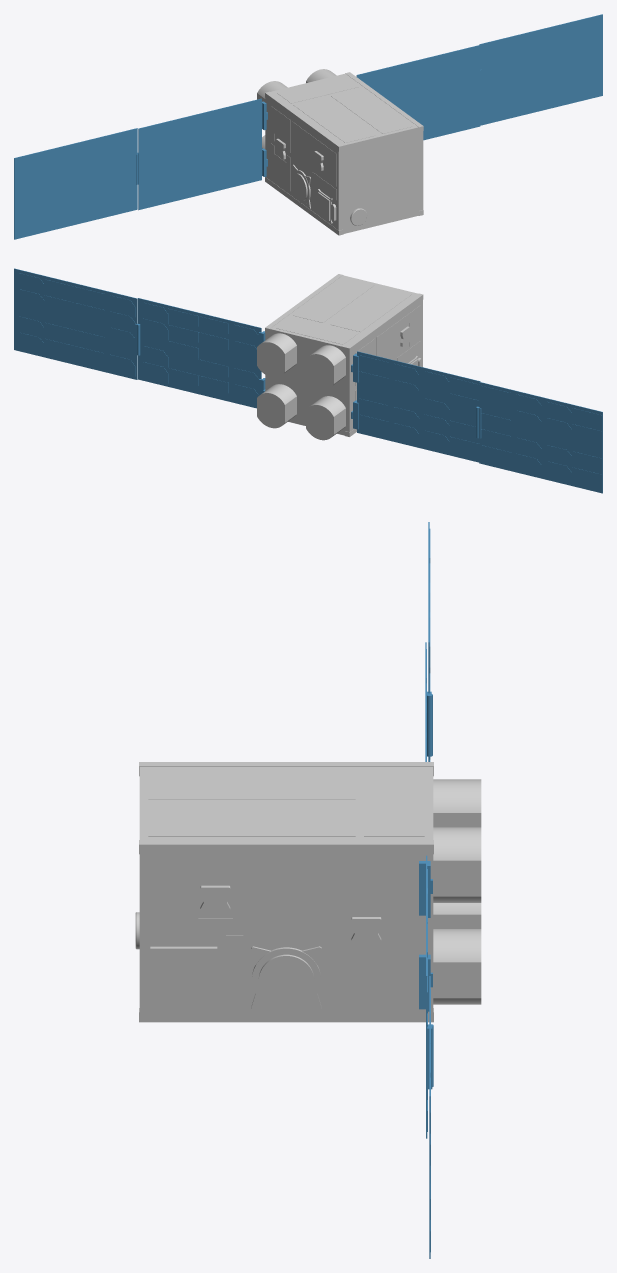
3 renders of one model, top to bottom at view 1: azimuth 30°, elevation 25°; view 2: azimuth 150°, elevation 25°; view 3: azimuth 270°, elevation 25°, orthographic. The views are drawn at different scales.
Parts seen in each view (by area): view 1: Part1 (×3); view 2: Part1 (×3); view 3: Part1 (×3).
Boxes of the visible parts, left/top/right/bottom form: Part1 (×3): left=14, top=14, right=602, bottom=239; Part1 (×3): left=14, top=268, right=602, bottom=493; Part1 (×3): left=135, top=522, right=481, bottom=1258.
Bounding box in the file's own units: 1.58 × 0.2325 × 0.401.
